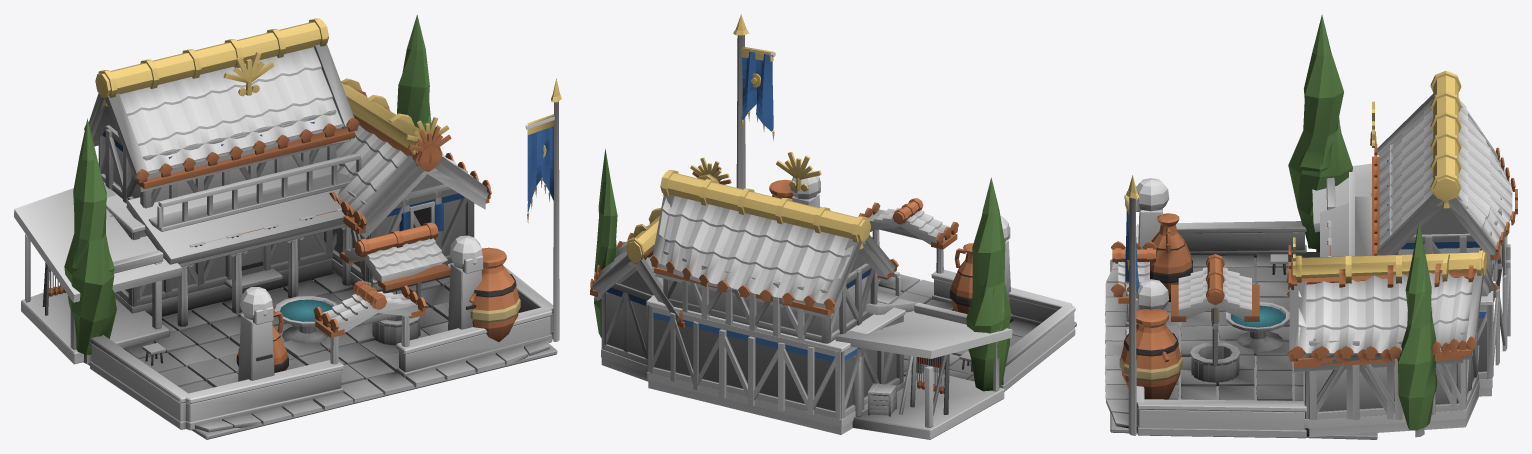
File: house-l3.glb
3 views of the same model, side by side, from view 1: azimuth 30°, elevation 25°; view 2: azimuth 150°, elevation 25°; view 3: azimuth 270°, elevation 25° (orthographic). The views are drawn at different scales.
Visible parts, largest first — view 1: house-l3; view 2: house-l3; view 3: house-l3.
Part boxes in pixels (x1,y1,x2,y2): house-l3: (14,14,561,439); house-l3: (590,14,1076,439); house-l3: (1105,14,1517,439).
Size of the model in its own units: 1.48 by 0.918 by 1.3.
